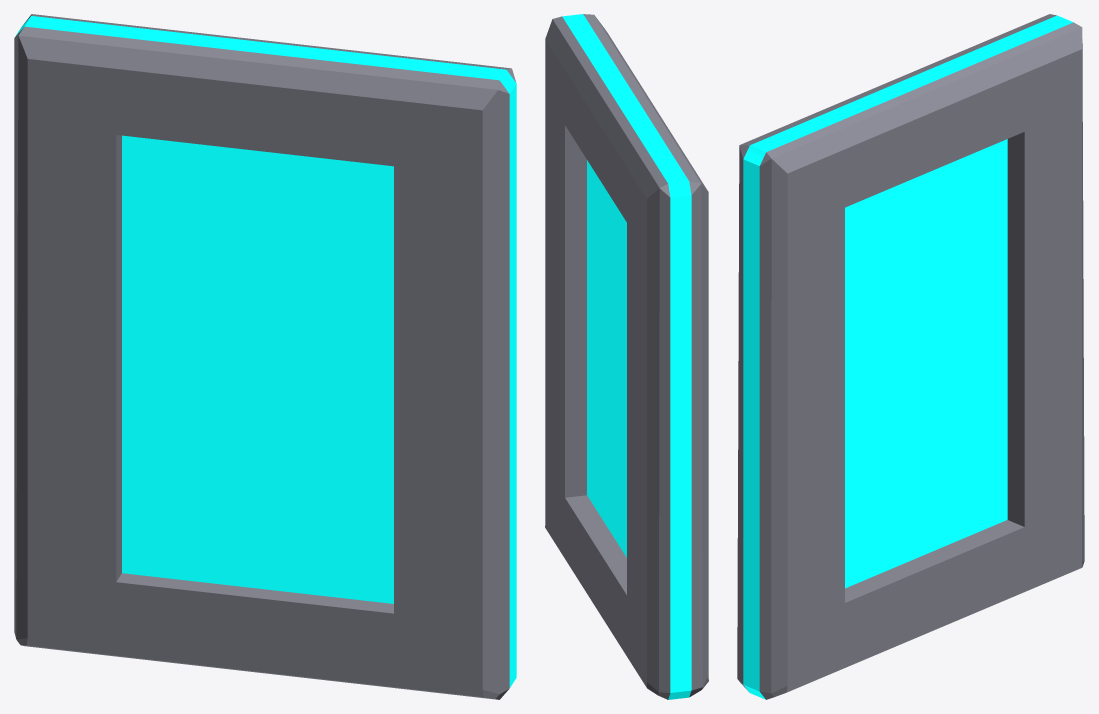
The model's file is silver_scarab.gltf.
3 renders of one model, left to right at view 1: azimuth 30°, elevation 25°; view 2: azimuth 150°, elevation 25°; view 3: azimuth 270°, elevation 25°, orthographic. The views are drawn at different scales.
Parts seen in each view (by area): view 1: silver_scarab; view 2: silver_scarab; view 3: silver_scarab.
Part boxes in pixels (left/top/right/bottom): silver_scarab: left=14, top=14, right=516, bottom=699; silver_scarab: left=545, top=14, right=708, bottom=699; silver_scarab: left=737, top=14, right=1084, bottom=699.
Size of what is drawn, in the model's own units: 1.38 by 2.4 by 1.38.
Materials: 2 (2 with a texture image).
